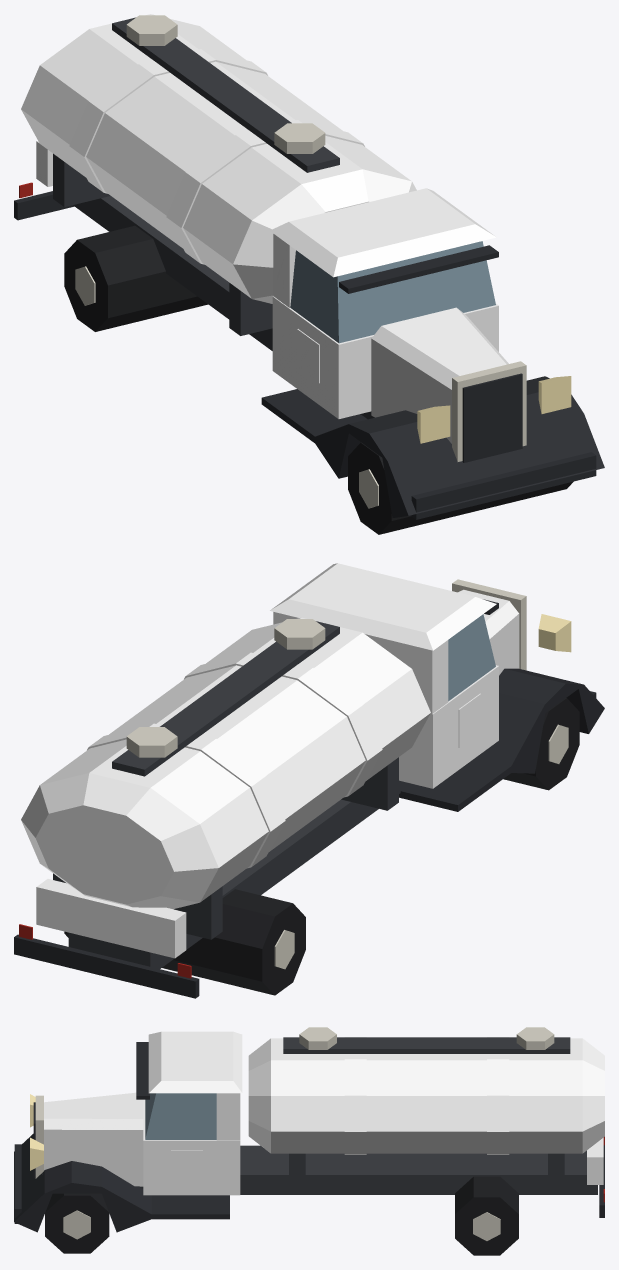
The model's file is tanker.glb.
The picture shows the model from 3 angles, top to bottom: view 1: azimuth 30°, elevation 25°; view 2: azimuth 150°, elevation 25°; view 3: azimuth 270°, elevation 25°; orthographic projection. The views are drawn at different scales.
Visible parts, largest first — view 1: model; view 2: model; view 3: model.
Boxes of the visible parts, left/top/right/bottom form: model: left=14, top=14, right=604, bottom=534; model: left=14, top=563, right=604, bottom=998; model: left=14, top=1027, right=604, bottom=1255.
Bounding box in the file's own units: 2.46 × 2.95 × 8.51.
